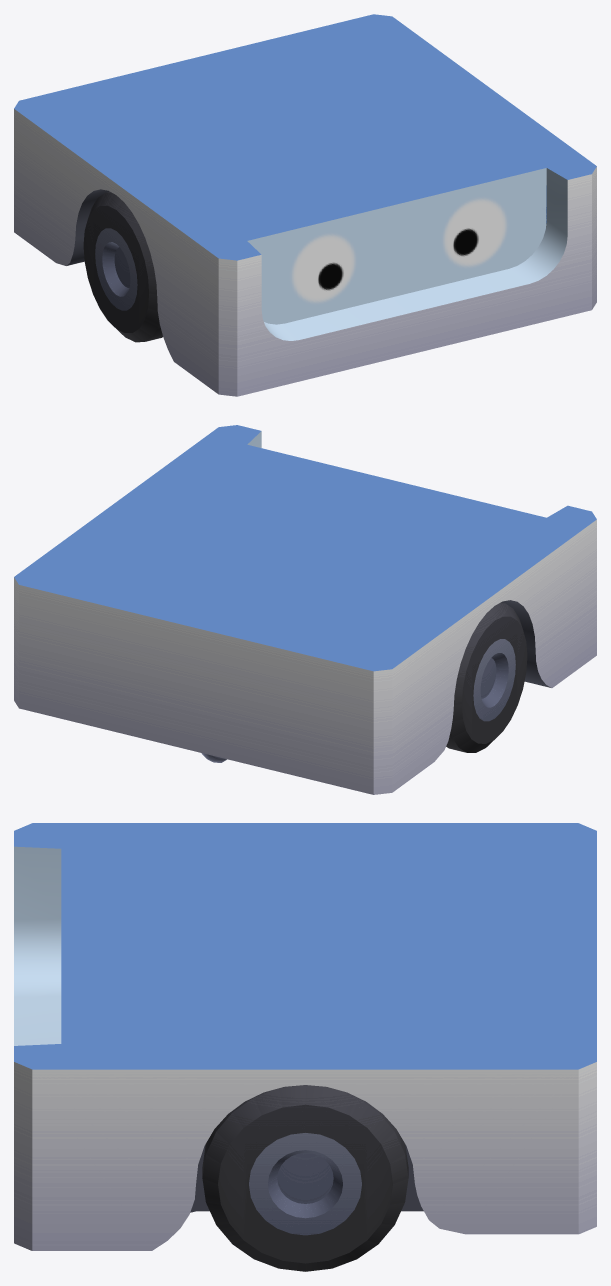
File: alvik.glb
3 renders of one model, top to bottom at view 1: azimuth 30°, elevation 25°; view 2: azimuth 150°, elevation 25°; view 3: azimuth 270°, elevation 25°, orthographic. The views are drawn at different scales.
Visible parts, largest first — view 1: body.001, wheel l.001; view 2: body.001, wheel l.001; view 3: body.001, wheel r.001.
Part boxes in pixels (x1,y1,x2,y2): body.001: [14, 14, 596, 396]; wheel l.001: [83, 191, 162, 342]; body.001: [14, 425, 596, 794]; wheel l.001: [446, 602, 527, 752]; body.001: [14, 823, 596, 1250]; wheel r.001: [202, 1085, 408, 1271].
Size of the model in its own units: 0.96 by 0.378 by 0.96.
Materials: 2 (2 with a texture image).
